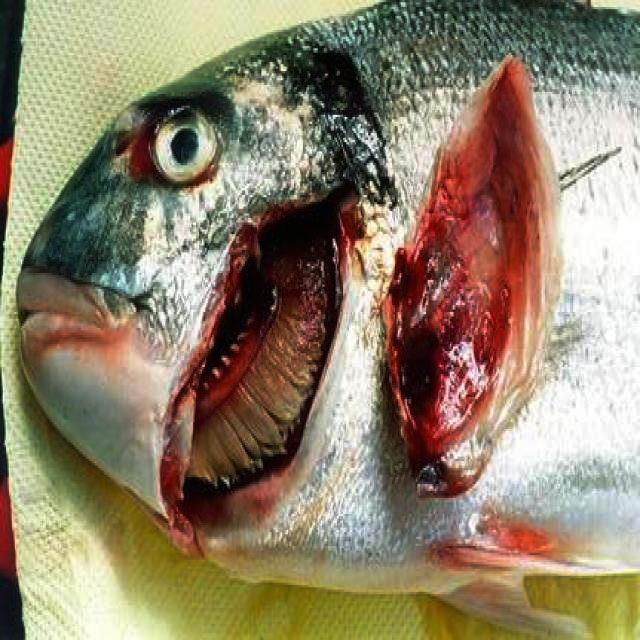Epizootic Ulcerative Syndrome -EUS-: (16, 0, 639, 633)
